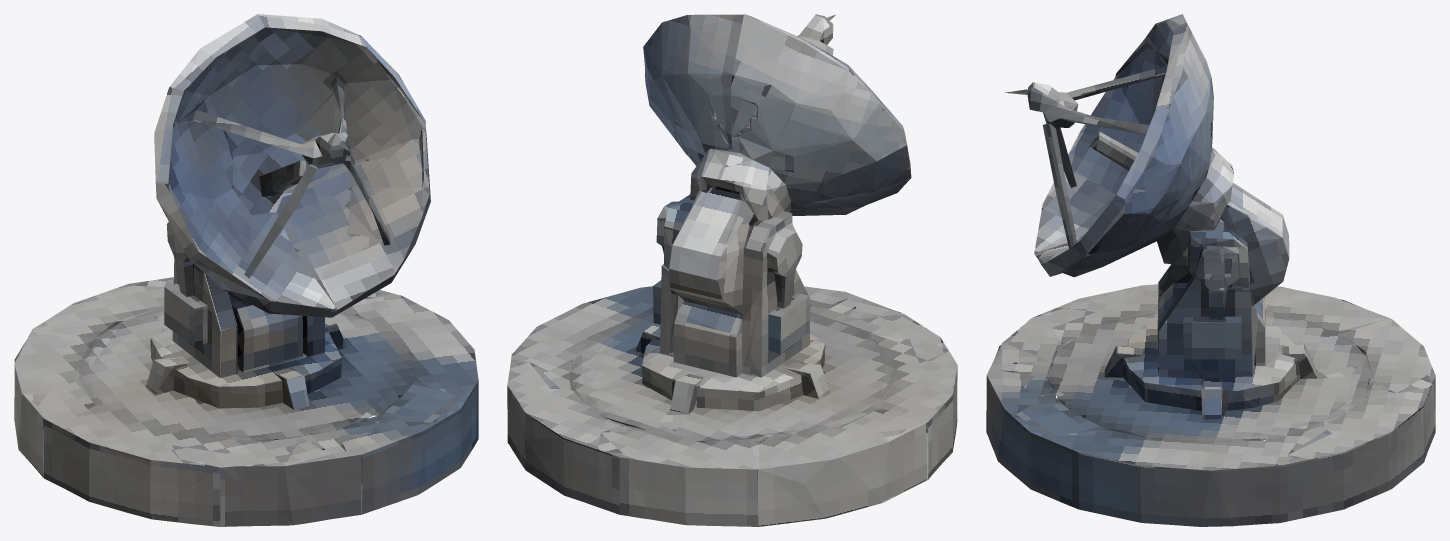
File: radar_3d.glb
3 views of the same model, side by side, from view 1: azimuth 30°, elevation 25°; view 2: azimuth 150°, elevation 25°; view 3: azimuth 270°, elevation 25° (orthographic). The views are drawn at different scales.
Parts seen in each view (by area): view 1: geometry_0; view 2: geometry_0; view 3: geometry_0.
Part boxes in pixels (x1,y1,x2,y2): geometry_0: [14, 14, 478, 526]; geometry_0: [507, 14, 957, 526]; geometry_0: [986, 14, 1435, 526].
Bounding box in the file's own units: 0.9995 × 0.9996 × 0.9987.
1 material, 1 textured.
